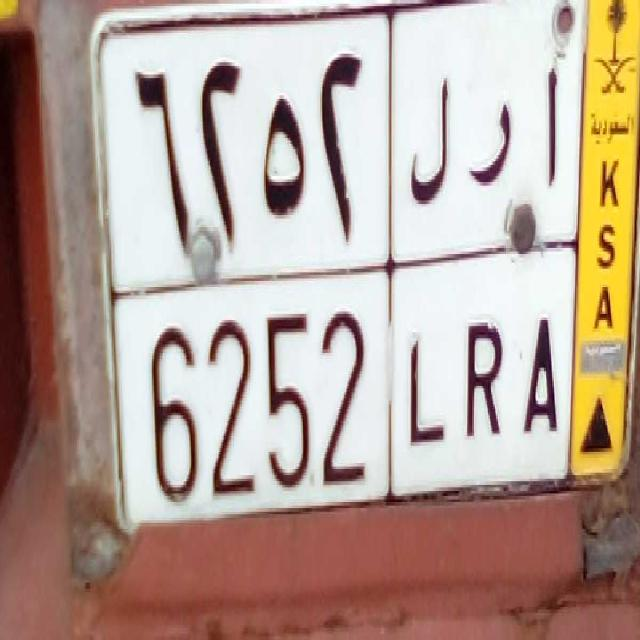license_plate: (109, 259, 570, 515)
